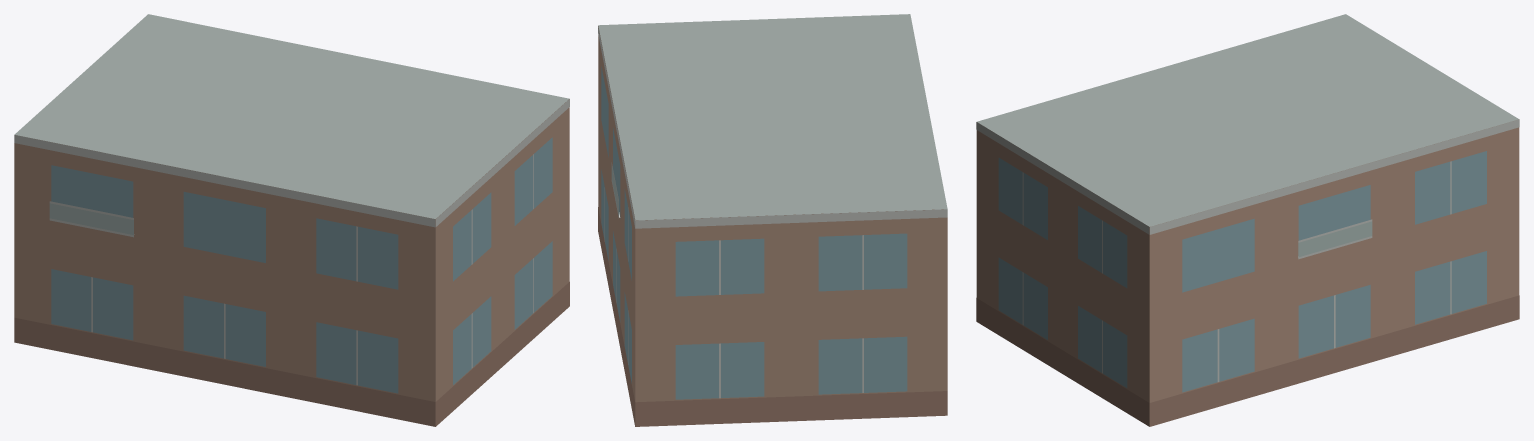
Rendered from survey-upis-32825649.glb.
3 views of the same model, side by side, from view 1: azimuth 30°, elevation 25°; view 2: azimuth 150°, elevation 25°; view 3: azimuth 270°, elevation 25° (orthographic). The views are drawn at different scales.
Visible parts, largest first — view 1: survey-upis-32825649.tmp; view 2: survey-upis-32825649.tmp; view 3: survey-upis-32825649.tmp.
Part boxes in pixels (x1,y1,x2,y2): survey-upis-32825649.tmp: (14,14,569,426); survey-upis-32825649.tmp: (598,14,947,426); survey-upis-32825649.tmp: (976,14,1519,426).
Size of the model in its own units: 13.95 by 6.1 by 15.02.
